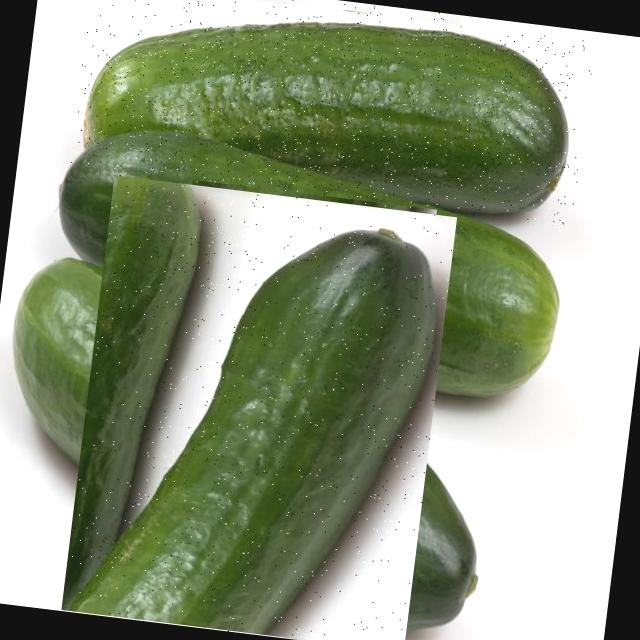Cucumber: (66, 196, 441, 640), (47, 126, 572, 398), (80, 0, 578, 222)
